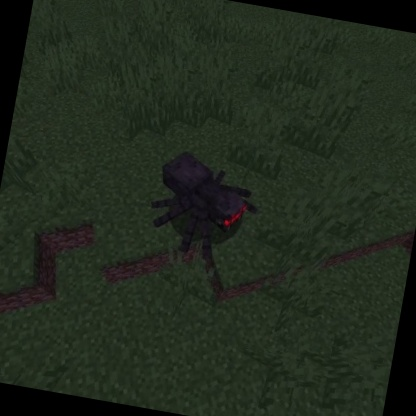spider: (139, 143, 270, 271)
